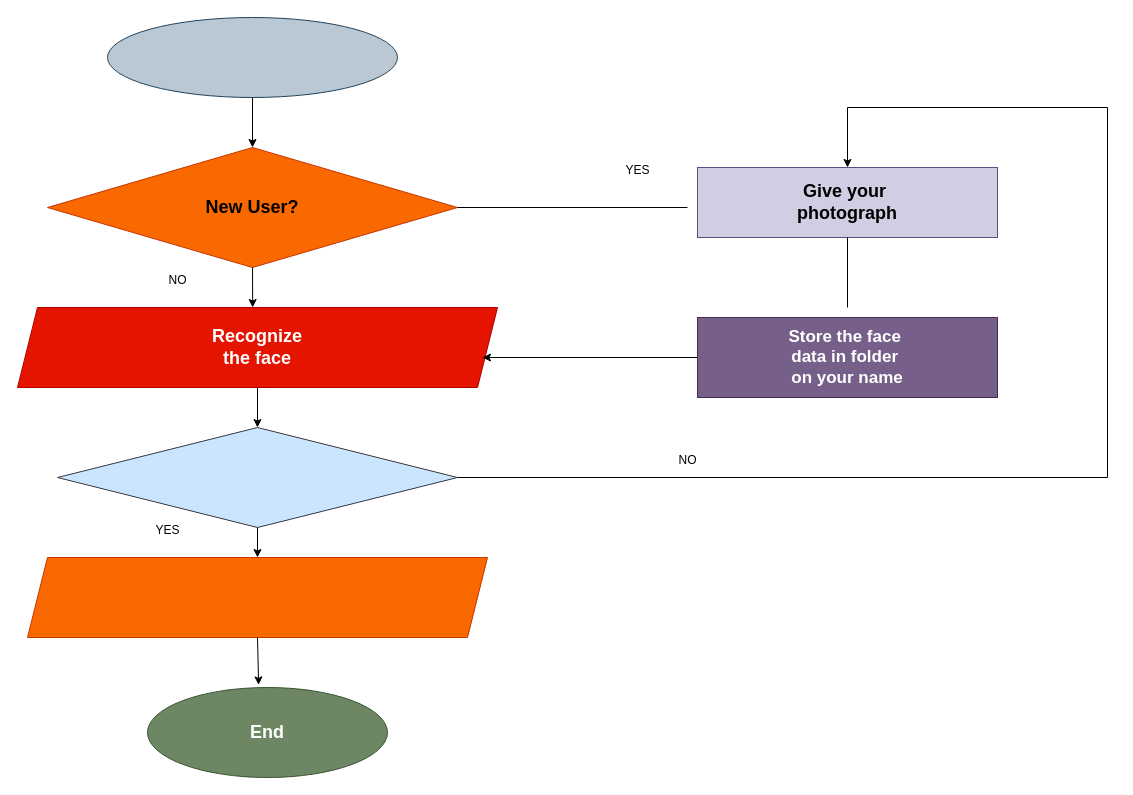
This 1133x795 diagram has some shape labels left out. Each missing label, with the box of its shape:
Face Recognized: (56, 426, 458, 528)
Start: (106, 16, 398, 98)
stored in Cav file with Registration Number & Date Time of Entry: (26, 556, 488, 638)
